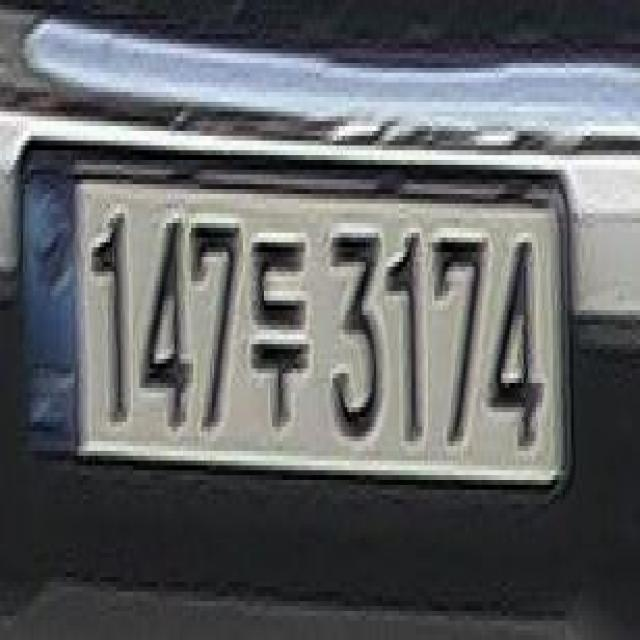illegal_plate: (12, 129, 574, 519)
